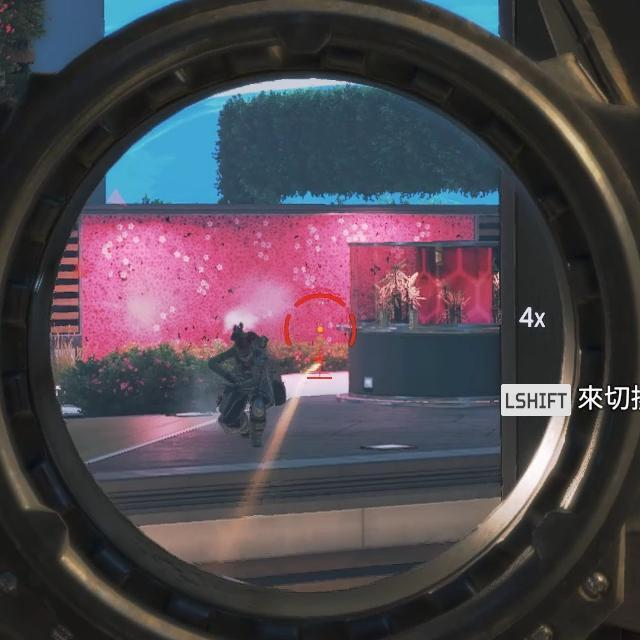avatar: (205, 323, 272, 451)
